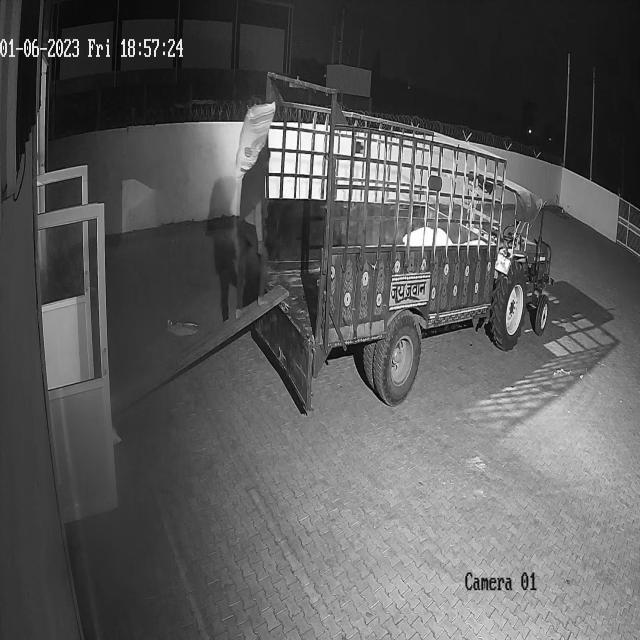sack: (235, 96, 275, 180)
